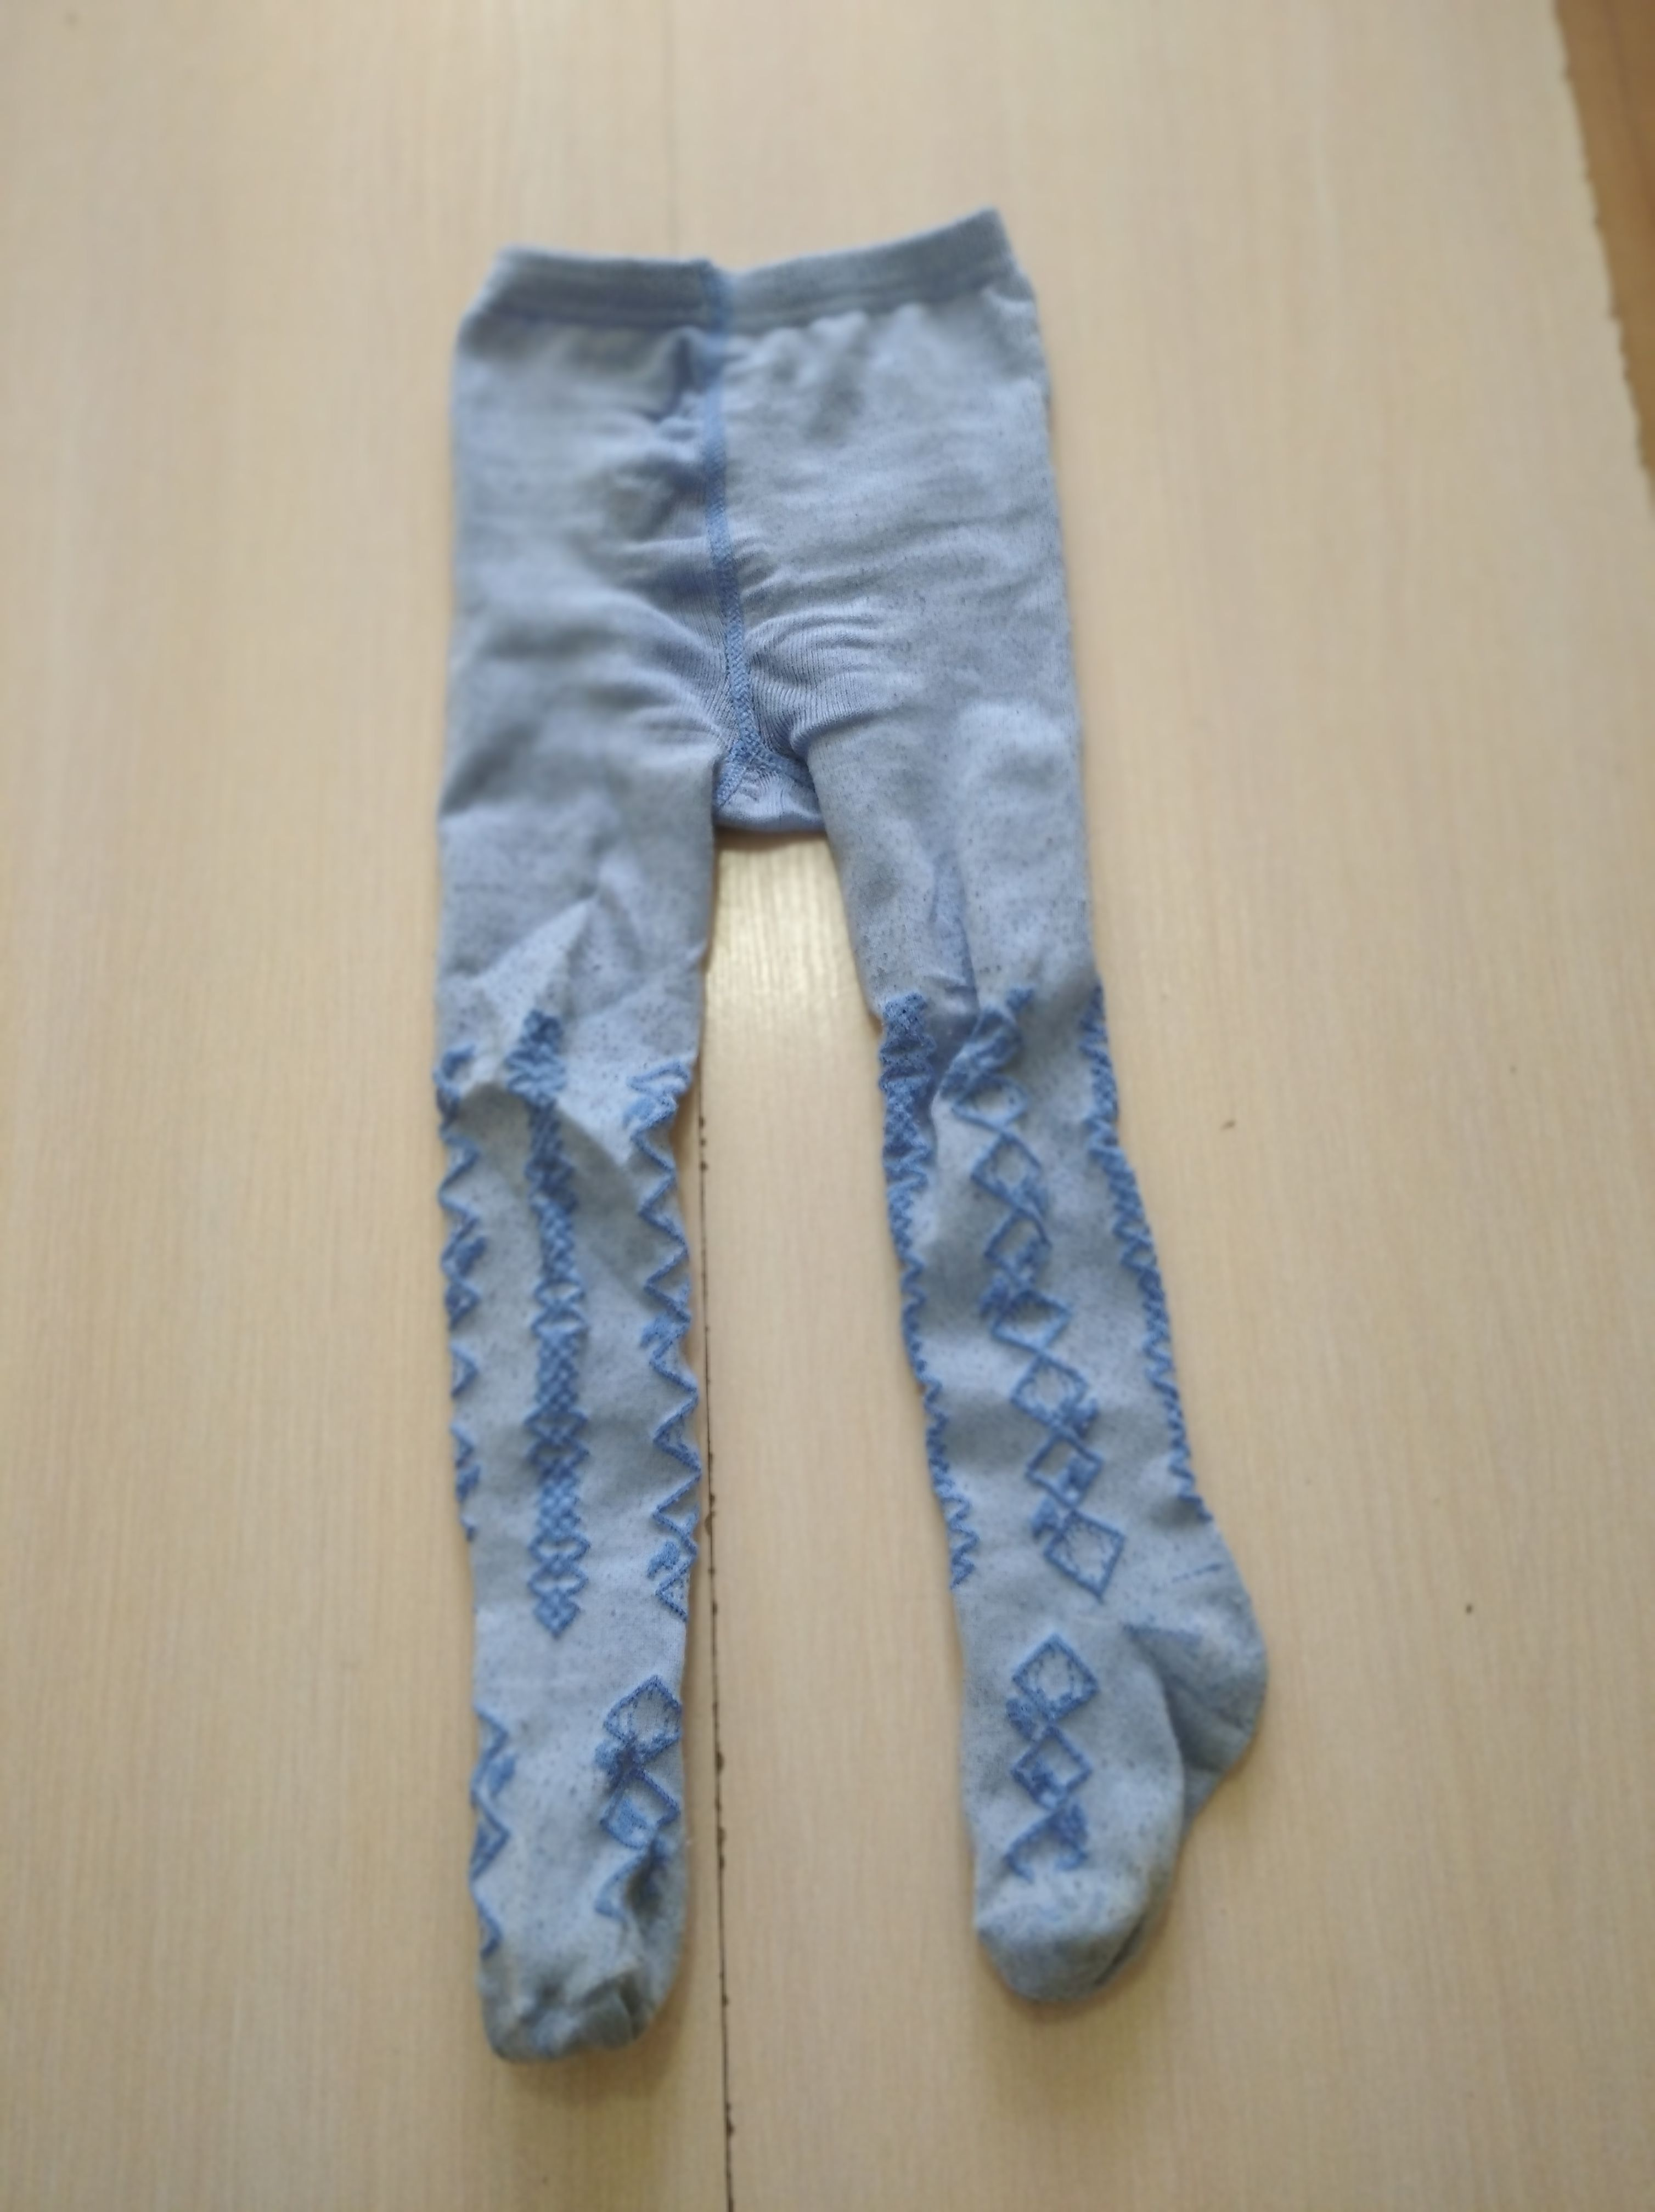clothes: (403, 226, 1279, 2045)
